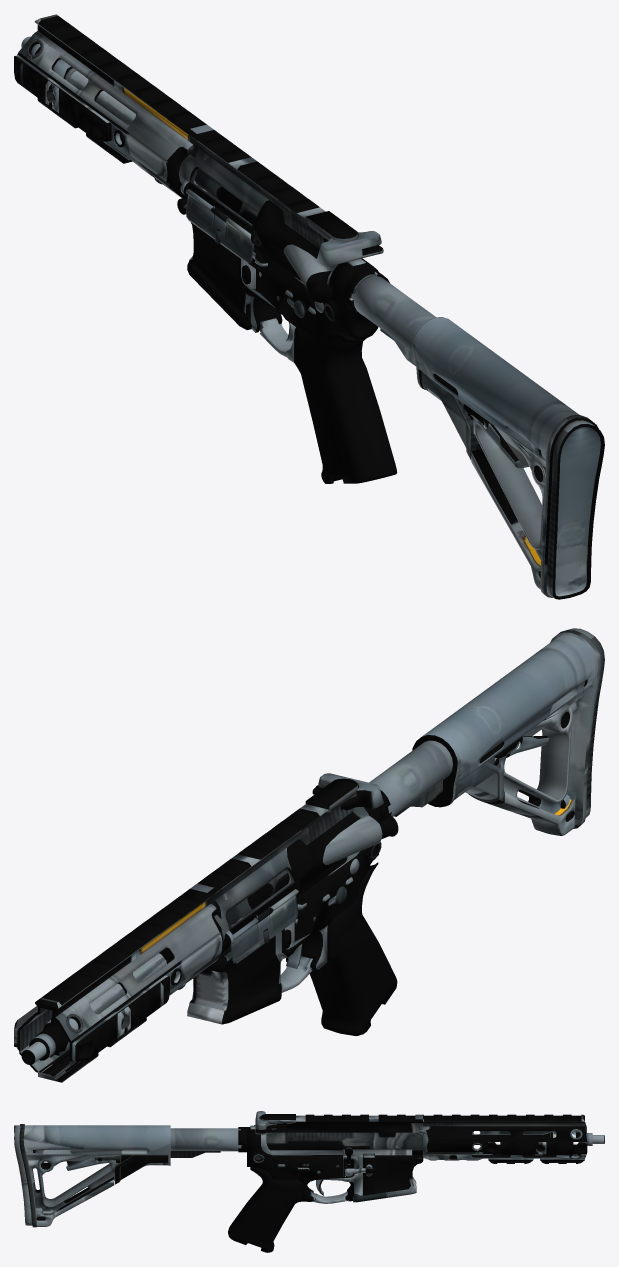
File: R4C-Glacier.glb
3 views of the same model, one above another, from view 1: azimuth 30°, elevation 25°; view 2: azimuth 150°, elevation 25°; view 3: azimuth 270°, elevation 25° (orthographic). The views are drawn at different scales.
Parts seen in each view (by area): view 1: R4C Glacier; view 2: R4C Glacier; view 3: R4C Glacier.
Part boxes in pixels (bbox=[...]): R4C Glacier: bbox=[14, 14, 604, 599]; R4C Glacier: bbox=[14, 628, 604, 1082]; R4C Glacier: bbox=[14, 1111, 604, 1252].
Size of the model in its own units: 0.0476 by 0.1397 by 0.5675.
1 material, 1 textured.
